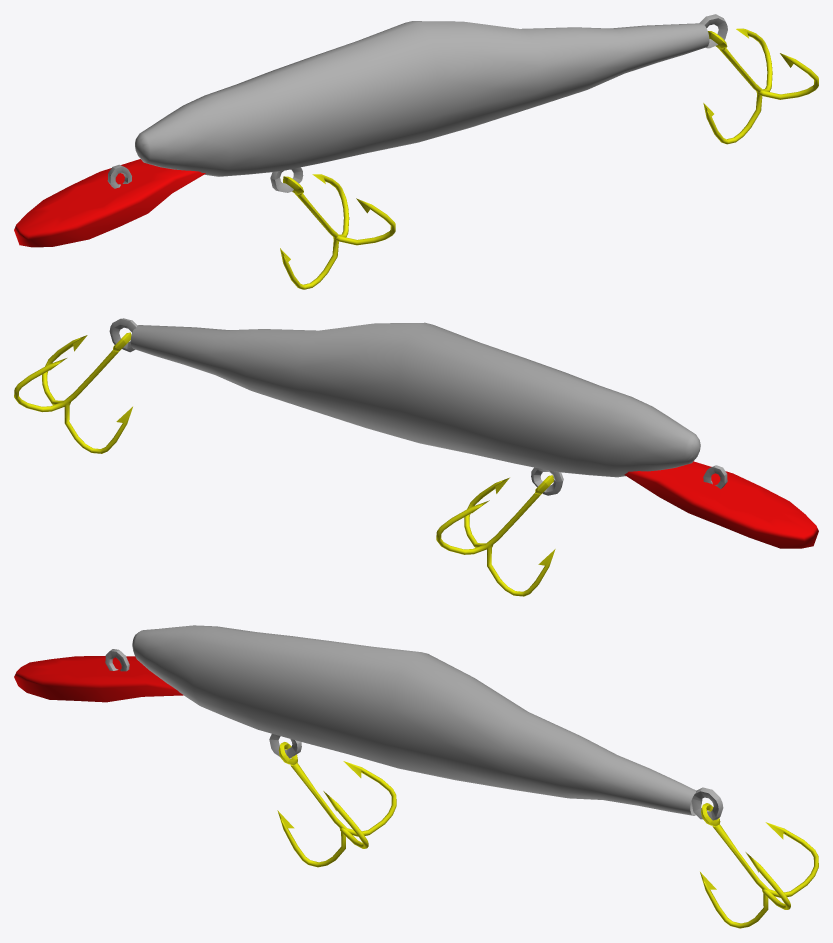
File: dMinor.fbx
The picture shows the model from 3 angles, top to bottom: view 1: azimuth 30°, elevation 25°; view 2: azimuth 150°, elevation 25°; view 3: azimuth 330°, elevation 25°; orthographic projection.
Parts seen in each view (by area): view 1: polySurface411; view 2: polySurface411; view 3: polySurface411.
Boxes of the visible parts, x1,y1,x2,y2 form: polySurface411: (14,14,818,289); polySurface411: (14,318,818,596); polySurface411: (14,625,818,928).
Bounding box in the file's own units: 2.26 × 0.6716 × 0.2735.
